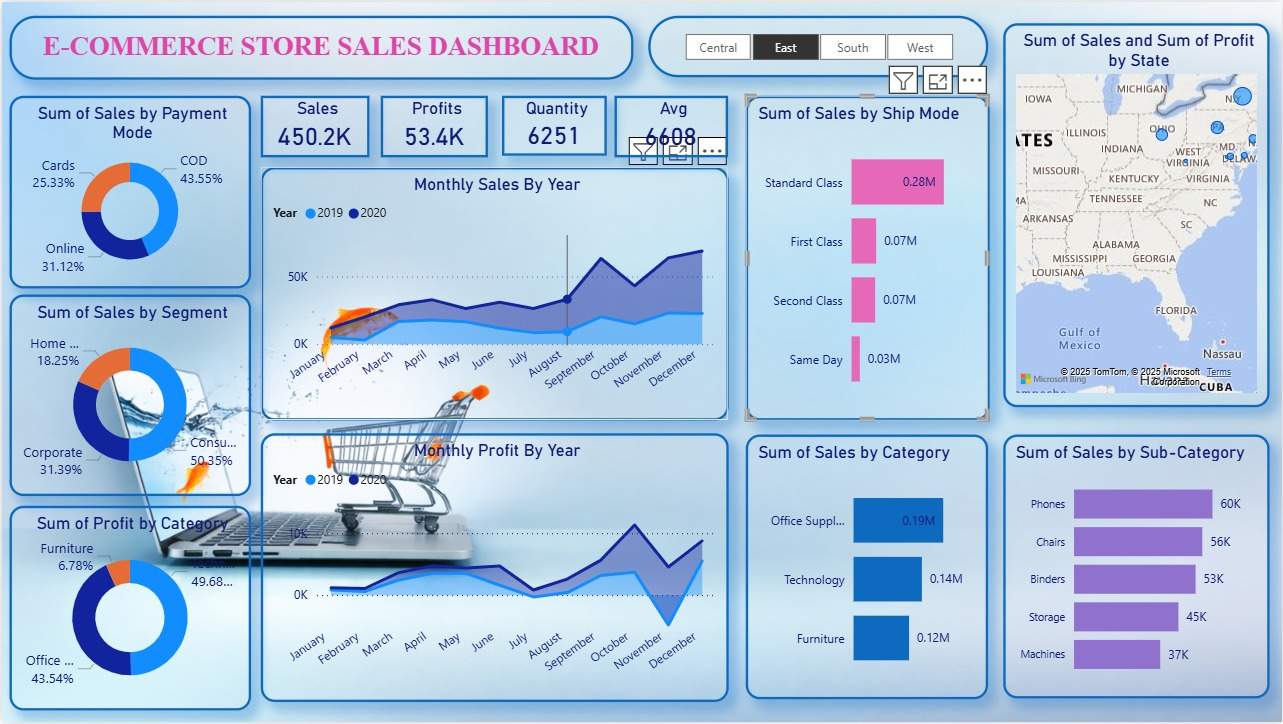

The page's visual inventory and layout, read from the dashboard file:
{"tool":"powerbi","page":{"name":"Page 1","canvas":[1280,720],"ordinal":0},"visuals":[{"type":"clusteredBarChart","fields":{"Category":["Sheet1.Category"],"Y":["Sum(Sheet1.Sales)"]},"box":[743.8,432.5,242.5,265],"z":0},{"type":"clusteredBarChart","fields":{"Category":["Sheet1.Sub-Category"],"Y":["Sum(Sheet1.Sales)"]},"box":[1001.2,432.5,266.2,263.8],"z":1000},{"type":"clusteredBarChart","fields":{"Category":["Sheet1.Ship Mode"],"Y":["Sum(Sheet1.Sales)"]},"box":[743.2,94.1,243.7,324.5],"z":2000},{"type":"stackedAreaChart","title":"Monthly Sales By Year","fields":{"Category":["Sheet1.Order Date.Variation.Date Hierarchy.Month"],"Y":["Sum(Sheet1.Sales)"],"Series":["Sheet1.Order Date.Variation.Date Hierarchy.Year"]},"box":[258.2,165.3,468.1,253.4],"z":3000},{"type":"stackedAreaChart","title":"Monthly Profit By Year","fields":{"Category":["Sheet1.Order Date.Variation.Date Hierarchy.Month"],"Y":["Sum(Sheet1.Profit)"],"Series":["Sheet1.Order Date.Variation.Date Hierarchy.Year"]},"box":[258.2,430.7,468.1,269],"z":4000},{"type":"slicer","fields":{"Values":["Sheet1.Region"]},"box":[646.2,13.8,340,61.2],"z":5000},{"type":"donutChart","fields":{"Category":["Sheet1.Segment"],"Y":["Sum(Sheet1.Sales)"]},"box":[7.5,292.5,241.2,201.2],"z":6000},{"type":"donutChart","fields":{"Category":["Sheet1.Category"],"Y":["Sum(Sheet1.Profit)"]},"box":[7.5,503.8,241.2,205],"z":7000},{"type":"map","fields":{"Category":["Sheet1.State"],"Size":["Sum(Sheet1.Sales)"]},"box":[1001.3,21.7,266.6,383.6],"z":8000},{"type":"textbox","box":[7.5,13.8,623.8,63.8],"z":9000},{"type":"card","title":"Sales","fields":{"Values":["Sum(Sheet1.Sales)"]},"box":[258.8,93.8,108.8,61.2],"z":10000},{"type":"card","title":"Profits","fields":{"Values":["Sum(Sheet1.Profit)"]},"box":[378.8,93.8,107.5,61.2],"z":11000},{"type":"card","title":"Quantity","fields":{"Values":["Sum(Sheet1.Quantity)"]},"box":[499.5,94.1,105,60.3],"z":12000},{"type":"donutChart","fields":{"Category":["Sheet1.Payment Mode"],"Y":["Sum(Sheet1.Sales)"]},"box":[7.5,93.8,241.2,192.5],"z":13000},{"type":"card","title":"Avg","fields":{"Values":["Sum(Sheet1.AvgDelivery)"]},"box":[612.9,94.1,113.4,61.5],"z":14000}]}

Visuals, with their boxes in screenshot pixels (x1, y1, x2, y2), scaled from the page's 1280x720 canvas onto the 1283x724 screenshot:
clusteredBarChart - Sheet1.Category x Sum(Sheet1.Sales): x1=746, y1=435, x2=989, y2=701
clusteredBarChart - Sheet1.Sub-Category x Sum(Sheet1.Sales): x1=1004, y1=435, x2=1270, y2=700
clusteredBarChart - Sheet1.Ship Mode x Sum(Sheet1.Sales): x1=745, y1=95, x2=989, y2=421
"Monthly Sales By Year" stackedAreaChart: x1=259, y1=166, x2=728, y2=421
"Monthly Profit By Year" stackedAreaChart: x1=259, y1=433, x2=728, y2=704
slicer - Sheet1.Region: x1=648, y1=14, x2=989, y2=75
donutChart - Sheet1.Segment x Sum(Sheet1.Sales): x1=8, y1=294, x2=249, y2=496
donutChart - Sheet1.Category x Sum(Sheet1.Profit): x1=8, y1=507, x2=249, y2=713
map - Sheet1.State x Sum(Sheet1.Sales): x1=1004, y1=22, x2=1271, y2=408
textbox: x1=8, y1=14, x2=633, y2=78
"Sales" card: x1=259, y1=94, x2=368, y2=156
"Profits" card: x1=380, y1=94, x2=487, y2=156
"Quantity" card: x1=501, y1=95, x2=606, y2=155
donutChart - Sheet1.Payment Mode x Sum(Sheet1.Sales): x1=8, y1=94, x2=249, y2=288
"Avg" card: x1=614, y1=95, x2=728, y2=156
